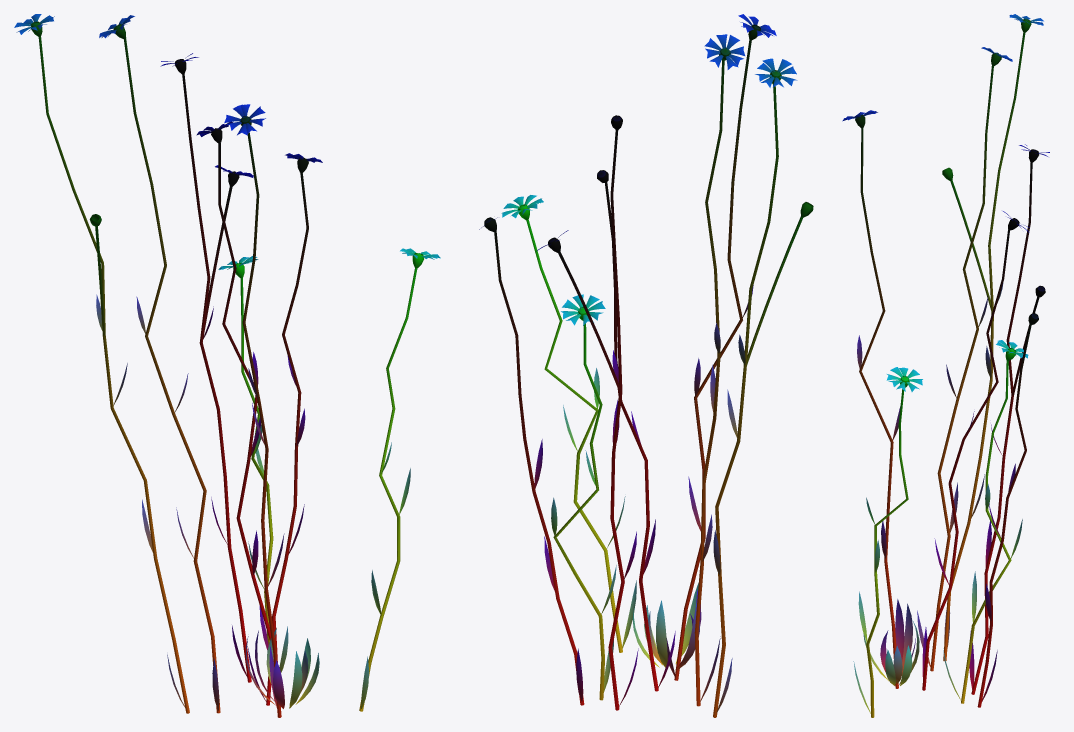
Rendered from SM_Flower_Cornflower_A.fbx.
3 views of the same model, side by side, from view 1: azimuth 30°, elevation 25°; view 2: azimuth 150°, elevation 25°; view 3: azimuth 270°, elevation 25° (orthographic). The views are drawn at different scales.
Visible parts, largest first — view 1: SM_Flower_Cornflower_A; view 2: SM_Flower_Cornflower_A; view 3: SM_Flower_Cornflower_A.
Part boxes in pixels (x1,y1,x2,y2): SM_Flower_Cornflower_A: [14, 14, 440, 717]; SM_Flower_Cornflower_A: [479, 14, 813, 717]; SM_Flower_Cornflower_A: [842, 14, 1049, 717].
Bounding box in the file's own units: 0.3799 × 0.7141 × 0.2339.
